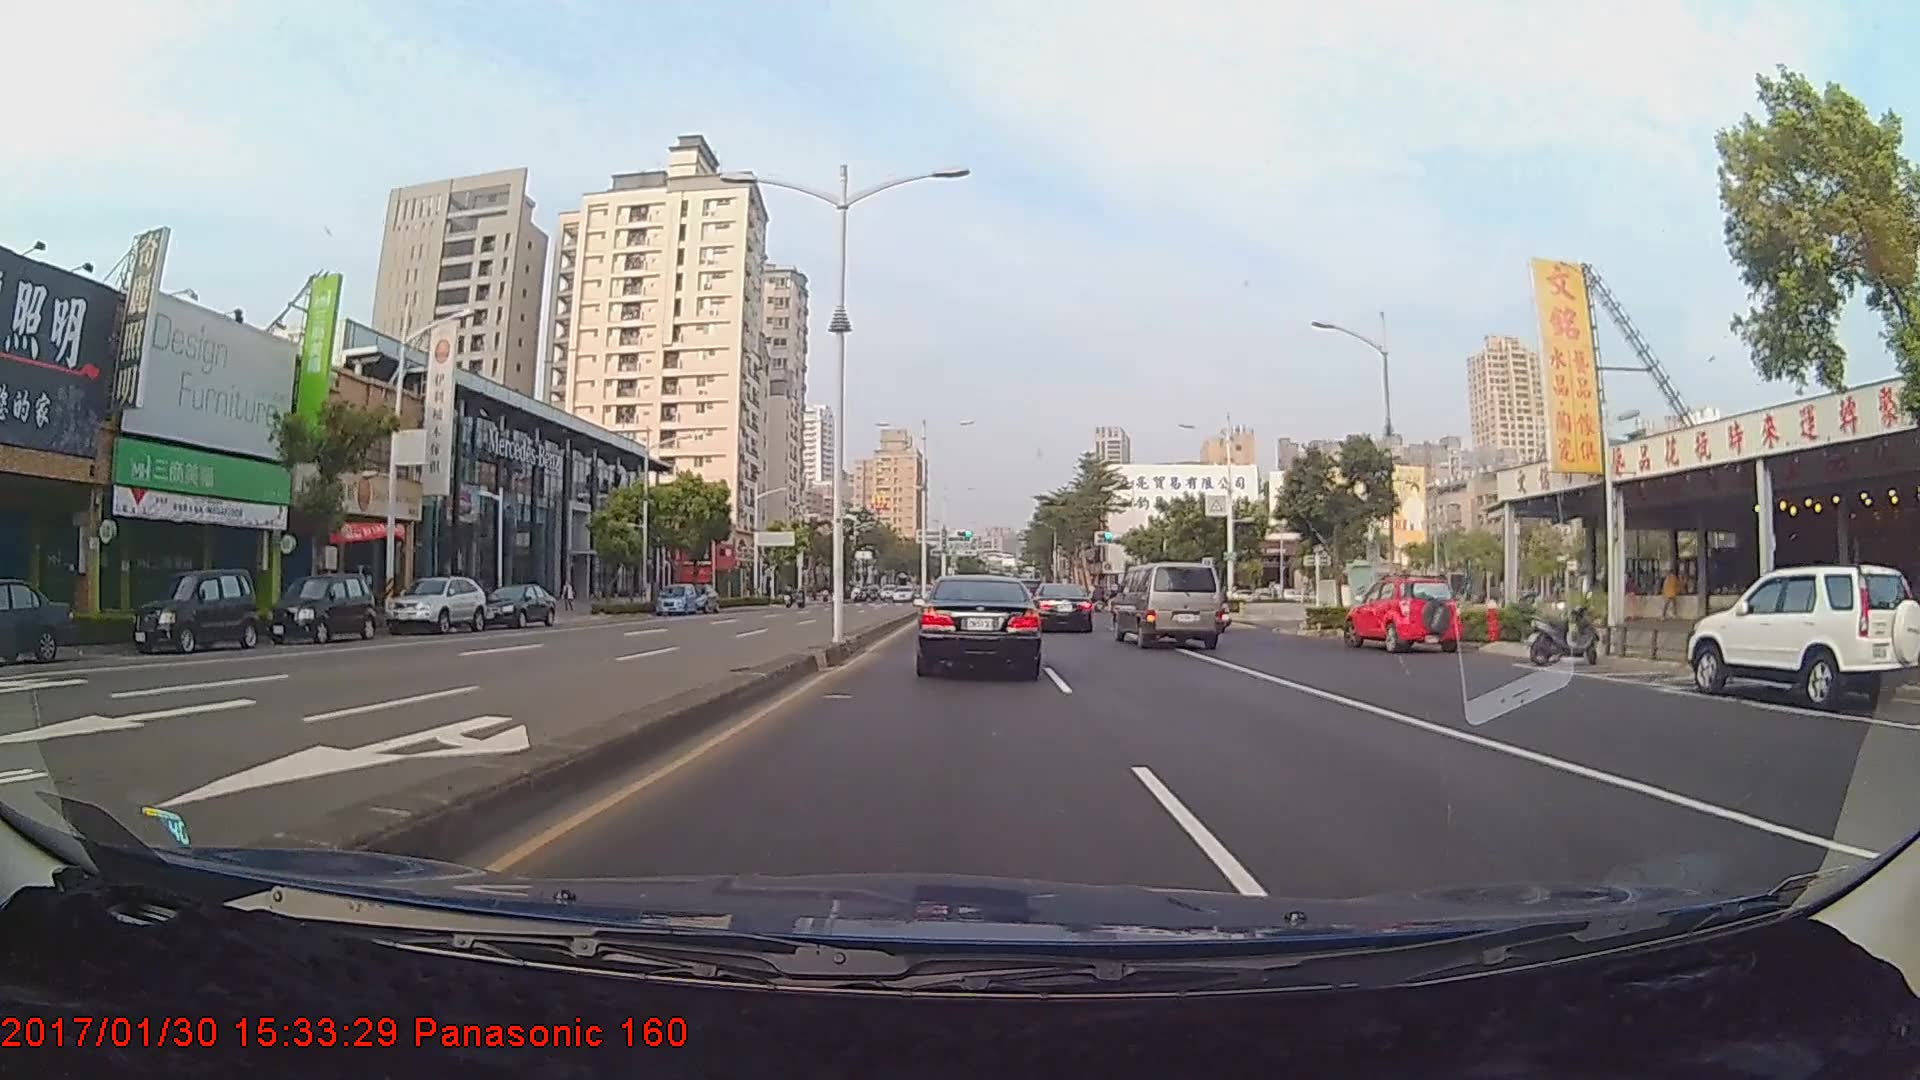vehicle: (1681, 564, 1919, 709), (914, 574, 1043, 676), (128, 568, 258, 655), (1112, 559, 1222, 650), (1346, 574, 1460, 655), (274, 575, 375, 645), (0, 580, 76, 667), (386, 575, 488, 636), (475, 583, 556, 630), (1030, 582, 1095, 634), (653, 585, 698, 616)
